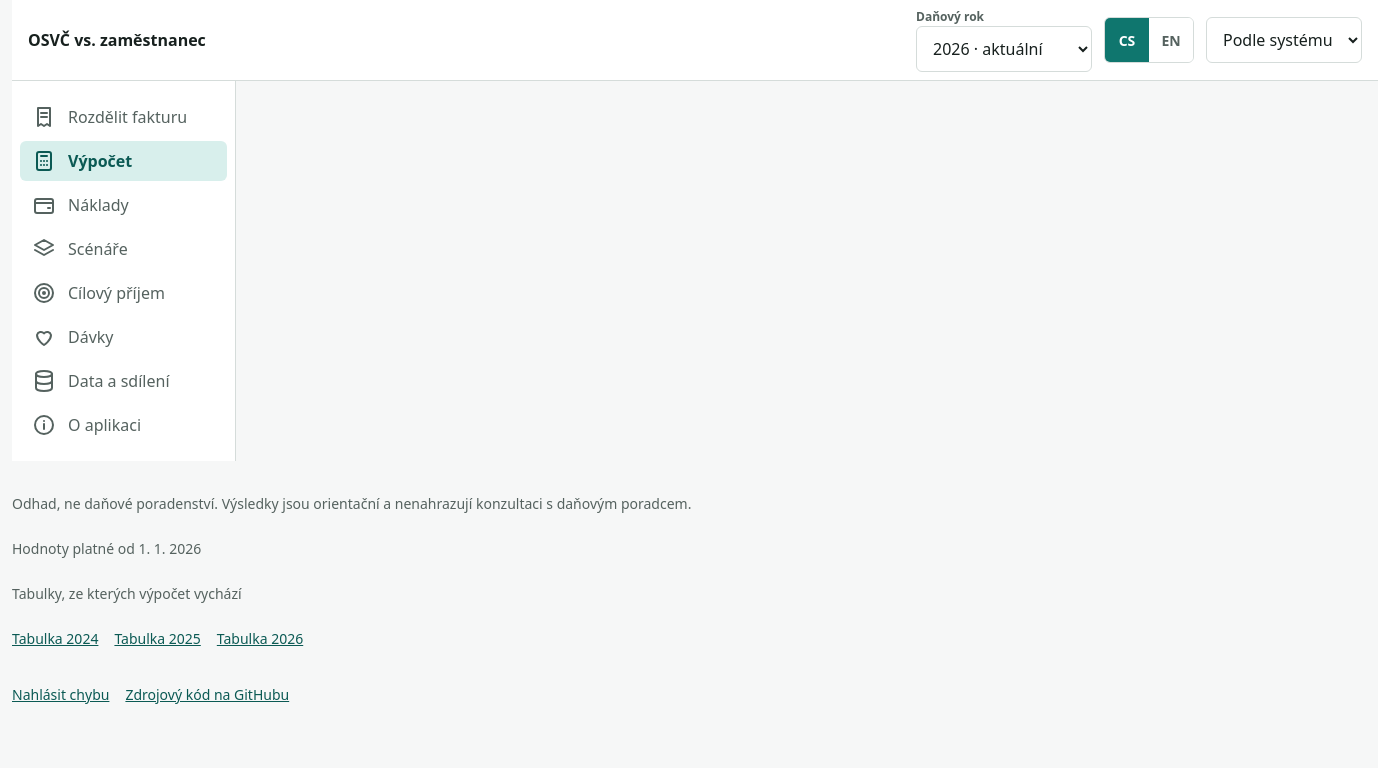
Test: App settings › switches the language of the navigation and the page language
This screenshot has width=1378, height=768.
Click the button with aria-label "English" at (1171,40), box x1=1149 y1=18 x2=1193 y2=62
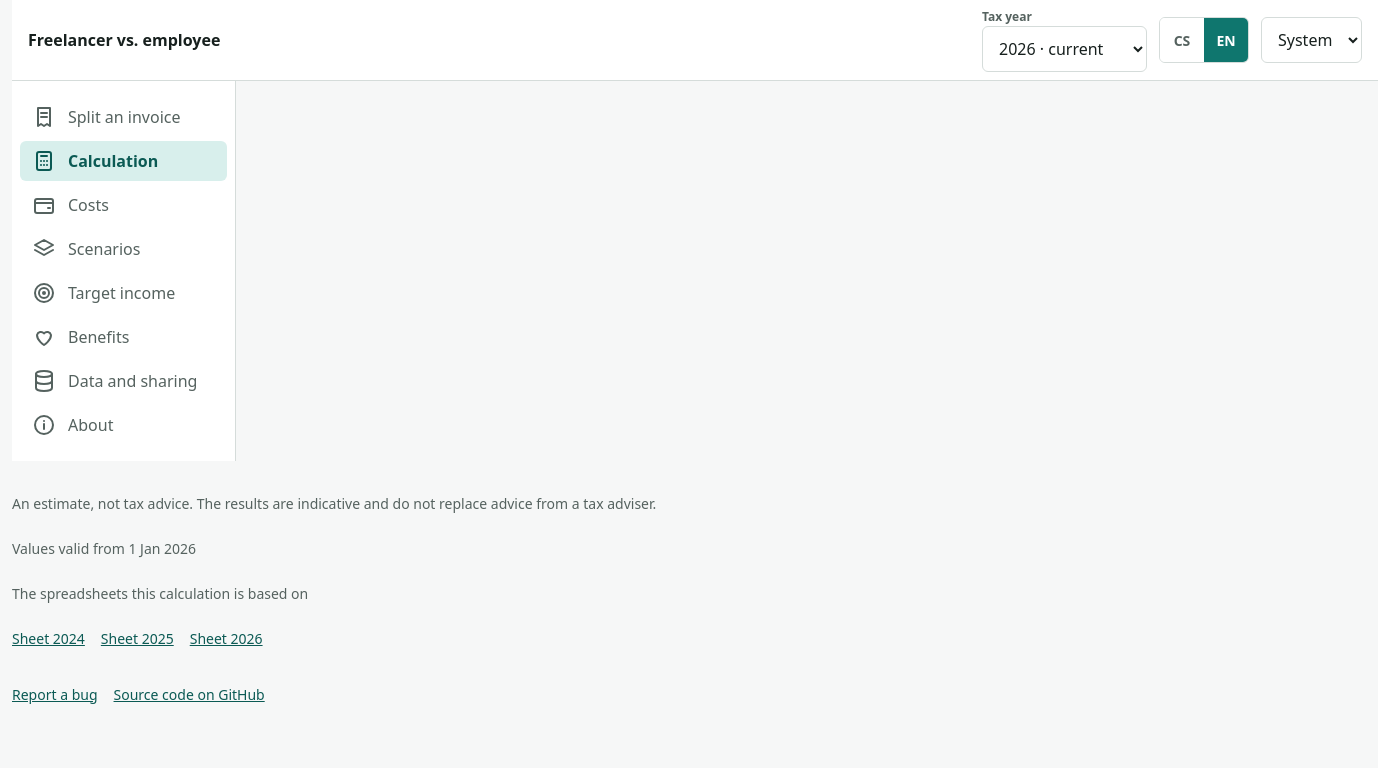
Expected: the link "About" is shown, x1=32 y1=413 x2=113 y2=437
Now the button with aria-label "English" is pressed, box x1=1204 y1=18 x2=1248 y2=62
Click the button with aria-label "Čeština" at (1182,40), box x1=1160 y1=18 x2=1204 y2=62
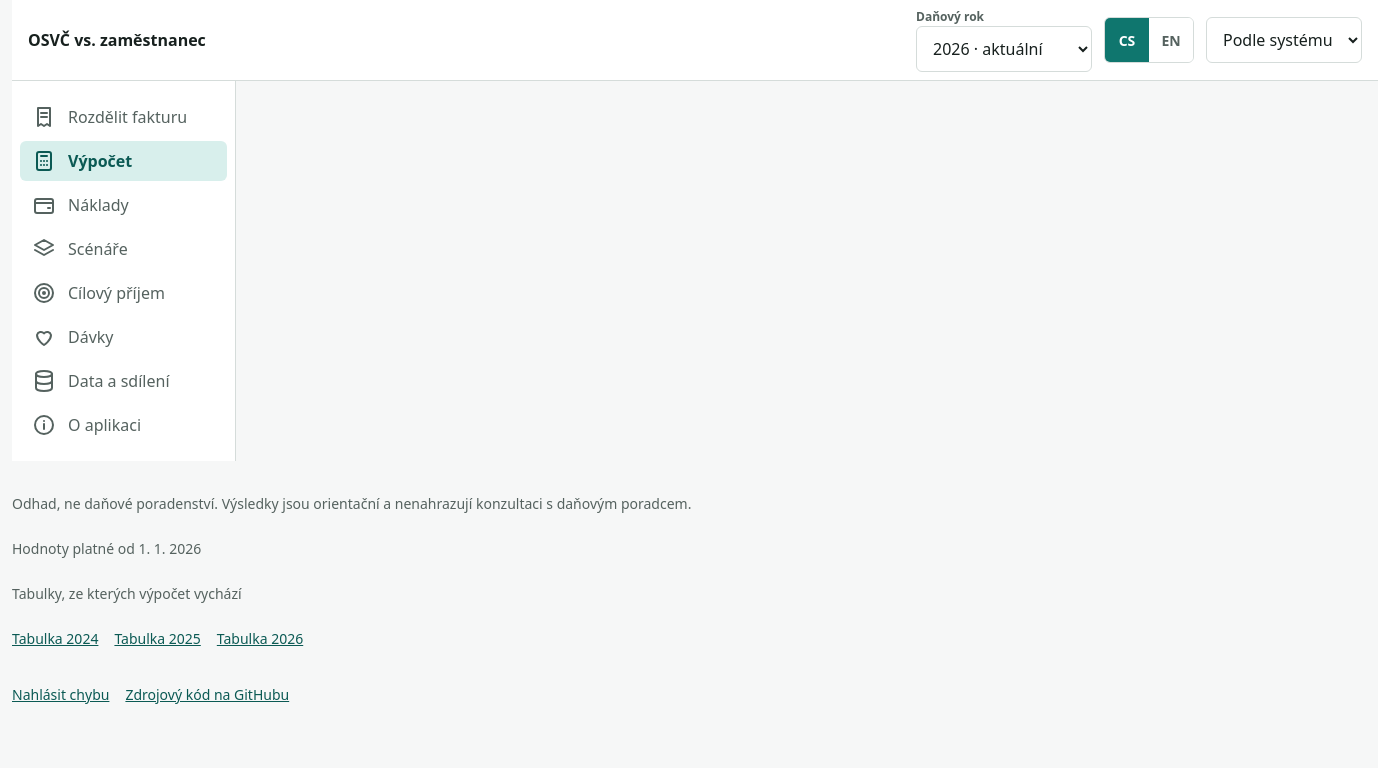
Now the link "O aplikaci" is shown, box x1=32 y1=413 x2=141 y2=437
